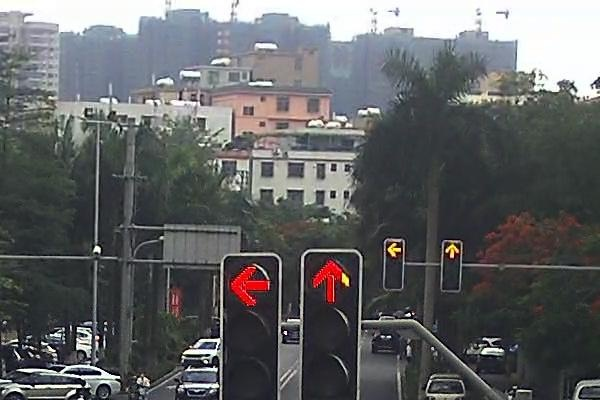redleft: (227, 263, 272, 310), (386, 242, 403, 260)
redstraight: (309, 257, 353, 306), (444, 241, 460, 259)
